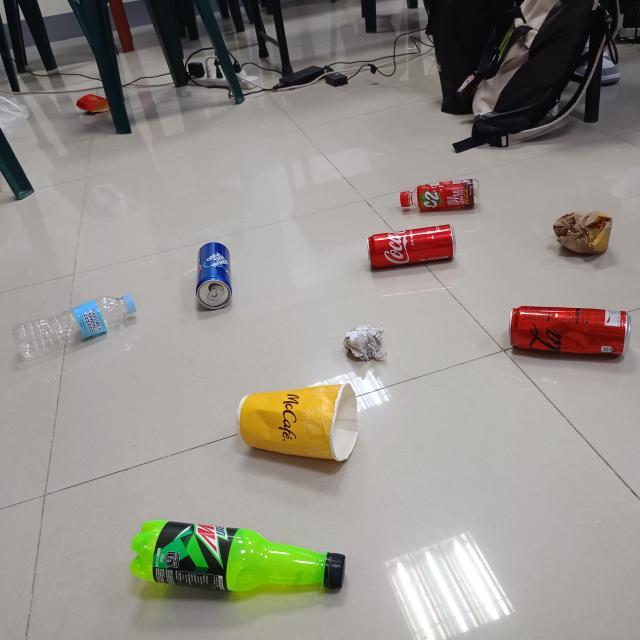recyclable waste: (125, 514, 351, 600), (230, 378, 363, 470), (9, 288, 147, 366), (505, 300, 636, 366), (361, 218, 461, 276), (549, 204, 617, 262), (394, 176, 482, 217), (192, 238, 236, 313), (336, 320, 394, 370)
